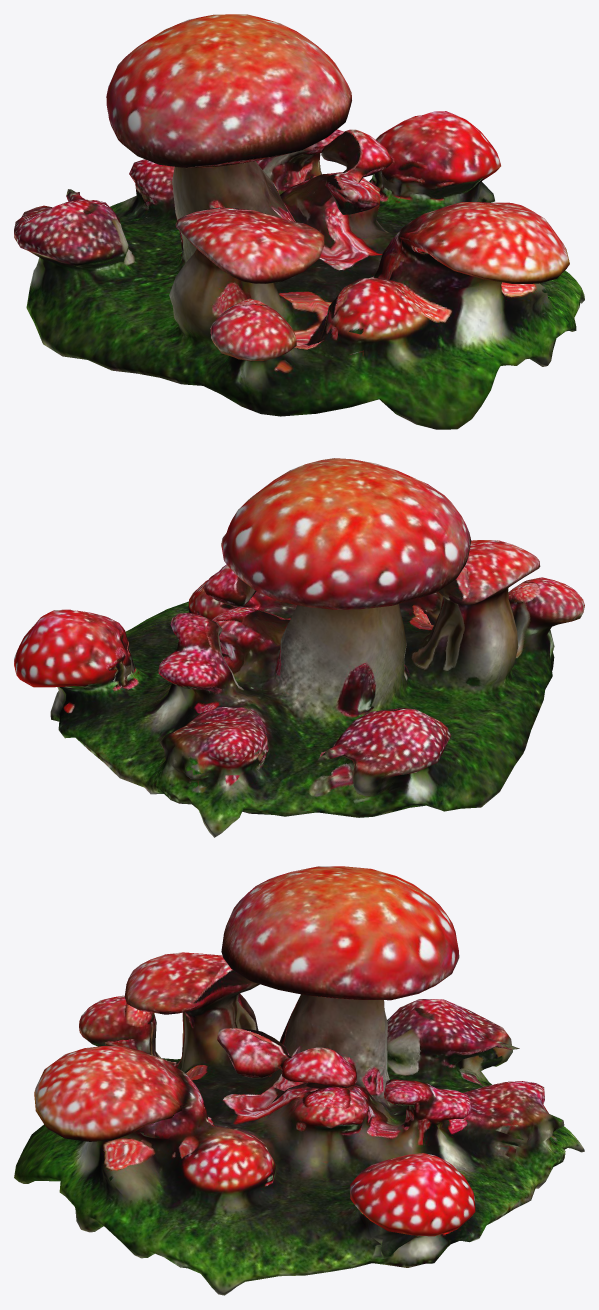
Rendered from 7a6c68720f56_6bae1283ff74_cluster_of_mushroom.glb.
The picture shows the model from 3 angles, top to bottom: view 1: azimuth 30°, elevation 25°; view 2: azimuth 150°, elevation 25°; view 3: azimuth 270°, elevation 25°; orthographic projection. The views are drawn at different scales.
Parts seen in each view (by area): view 1: mesh; view 2: mesh; view 3: mesh.
Boxes of the visible parts, x1=… form: mesh: x1=14, y1=14, x2=584, y2=429; mesh: x1=14, y1=458, x2=584, y2=837; mesh: x1=14, y1=866, x2=584, y2=1295.
Size of the model in its own units: 0.8879 by 0.5357 by 0.9914.
1 material, 1 textured.
